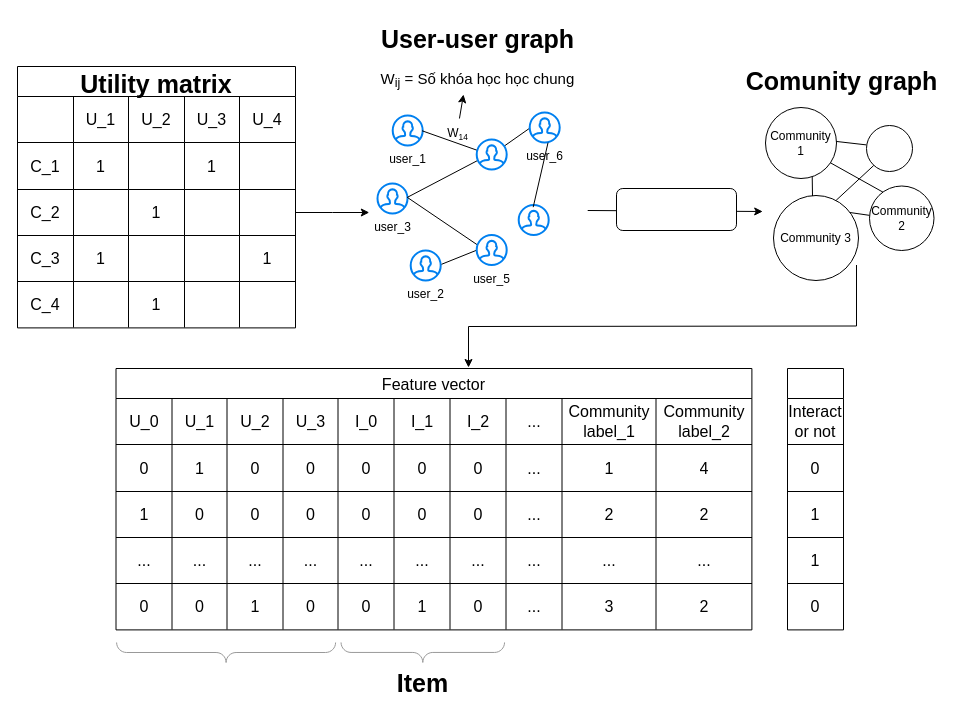
Image size: 964x721. Some labels were removed from this diagram. The shapes that lost their labels are listed below. From the top down, each one's box as (x1, y1, x2, y2) in pixels, then its label:
(475, 138, 507, 170): user_4
(866, 124, 912, 172): Community 4
(517, 204, 549, 236): user_7
(616, 188, 736, 230): Loivain algorithm
(786, 368, 844, 630): Label
(116, 642, 336, 662): User
